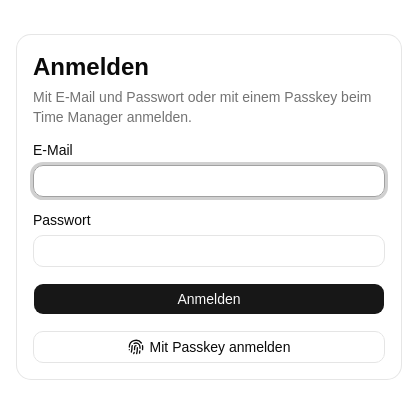
Test: Anmeldung › meldet einen abgebrochenen Dialog des Browsers
Click the button "Mit Passkey anmelden": (209, 347) [33, 331, 385, 363]
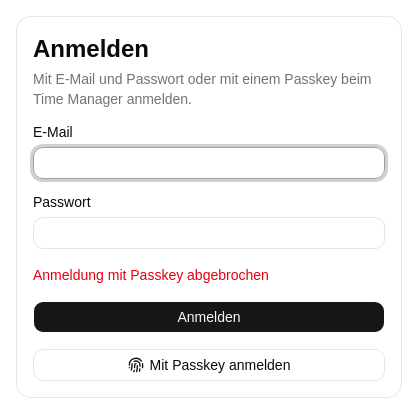
Now the message reads "Anmeldung mit Passkey abgebrochen", box [33, 267, 269, 283]
